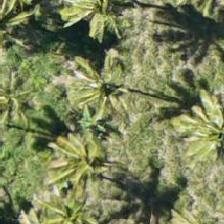coconut_tree: (44, 114, 134, 204), (147, 93, 223, 183), (12, 164, 102, 223), (58, 0, 148, 48), (0, 0, 47, 60)
